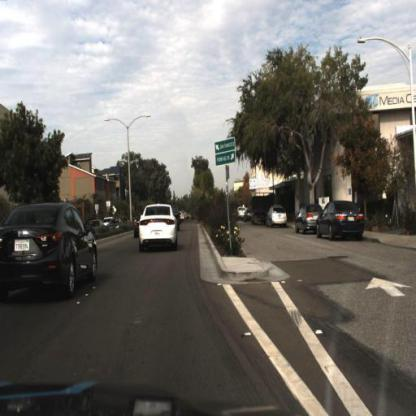car: (1, 189, 100, 316), (134, 194, 185, 264), (317, 194, 366, 249), (293, 199, 320, 236), (249, 191, 268, 231), (266, 201, 290, 232), (129, 210, 144, 243), (133, 208, 144, 248), (234, 200, 247, 222), (244, 204, 254, 226)
truck: (251, 194, 275, 228)
